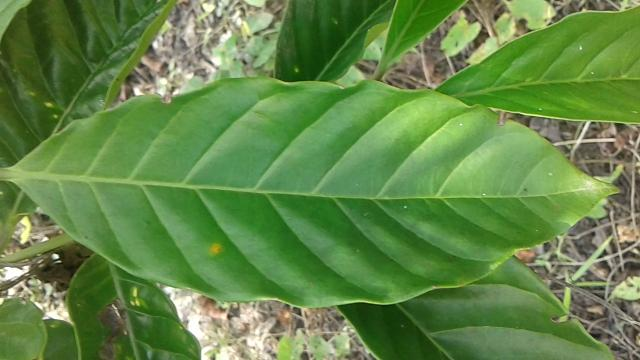rust_level_1: (15, 80, 596, 306)
